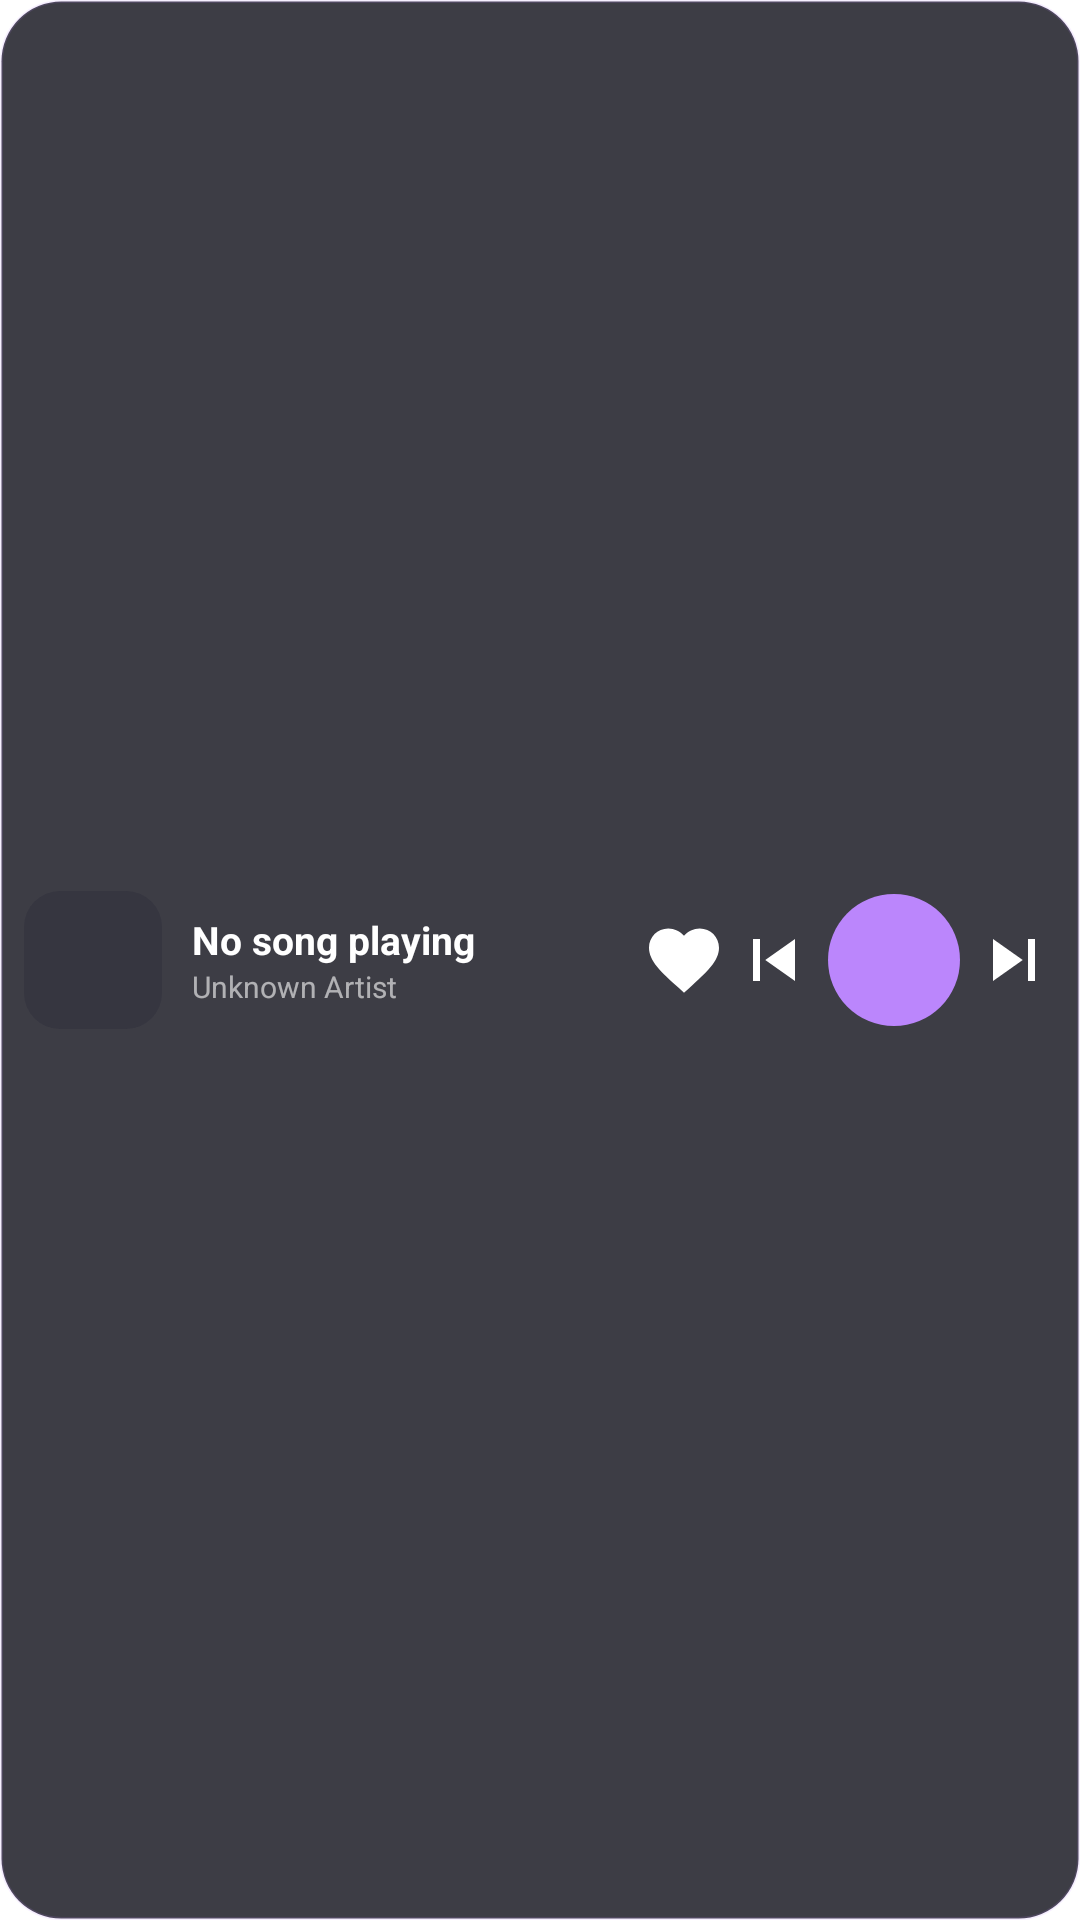

Named icons in this screenshot (1080*1920) and their centers, point (x, y):
Favorite: point (684, 960)
Next: point (1014, 960)
Previous: point (774, 960)
